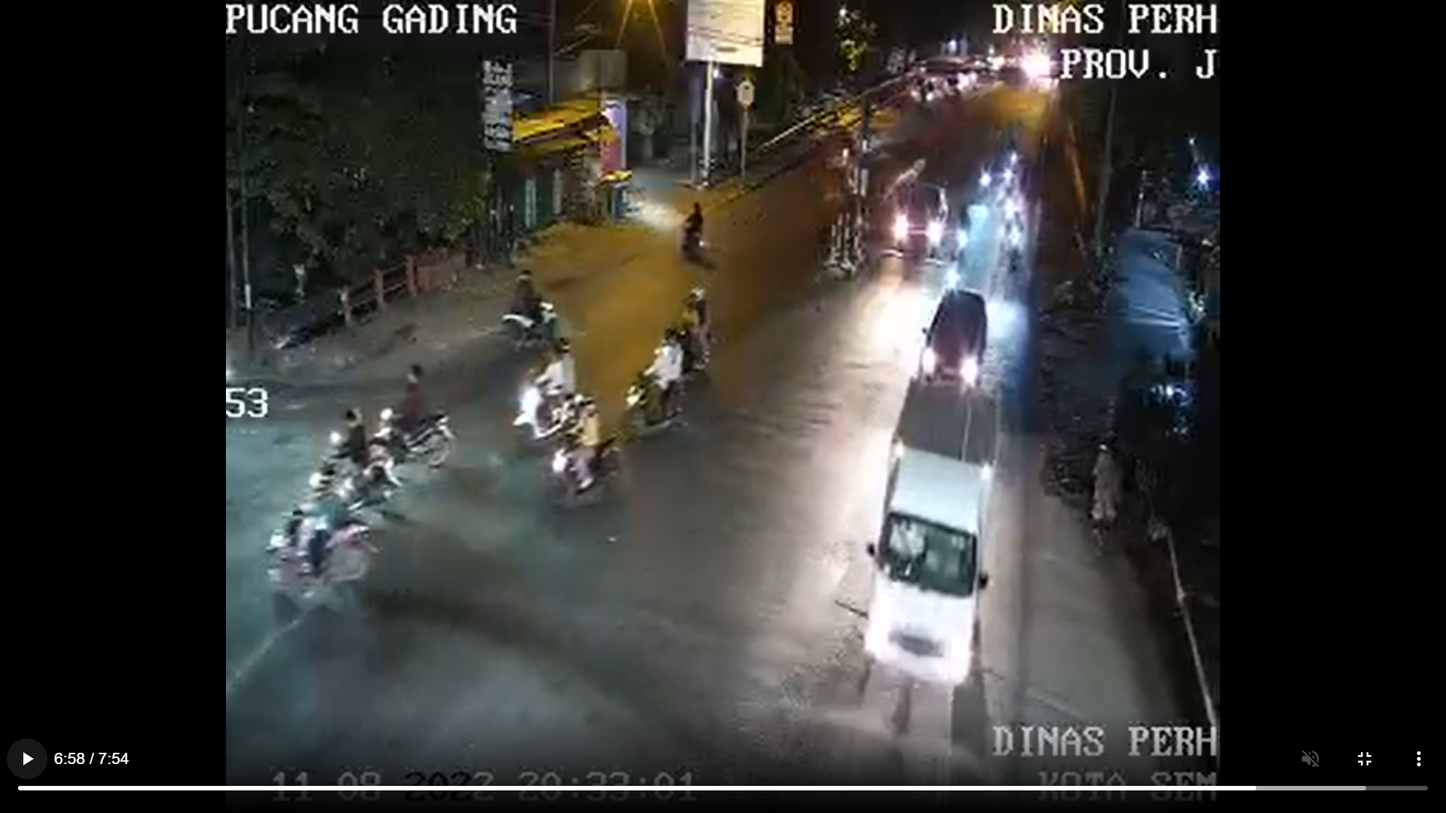with_helmet: (534, 397, 637, 515)
without_helmet: (373, 360, 469, 484), (632, 329, 695, 442), (497, 259, 567, 351), (676, 279, 732, 382), (674, 193, 719, 268), (457, 475, 458, 476)
